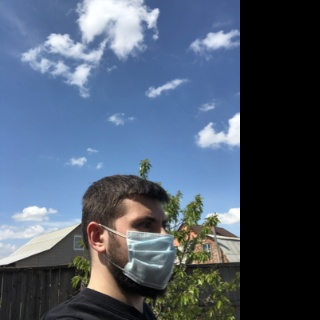with_mask: (121, 209, 176, 293)
